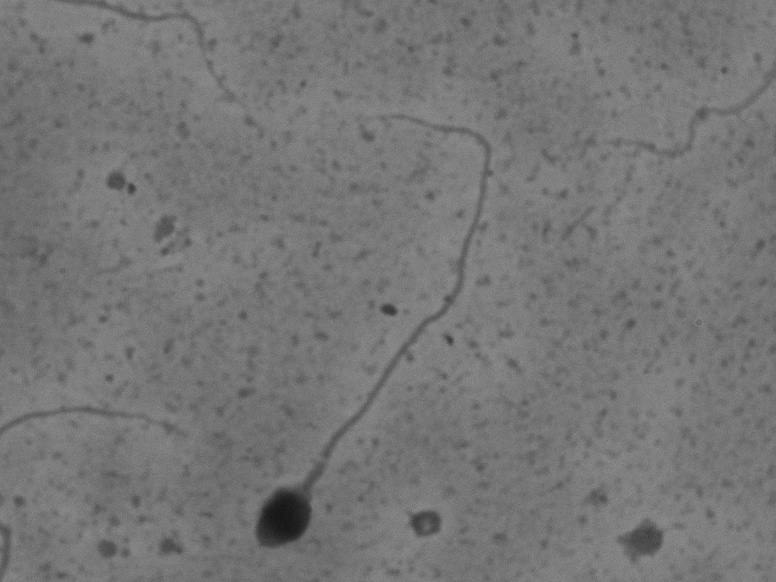Abnormal: (242, 100, 503, 566)
